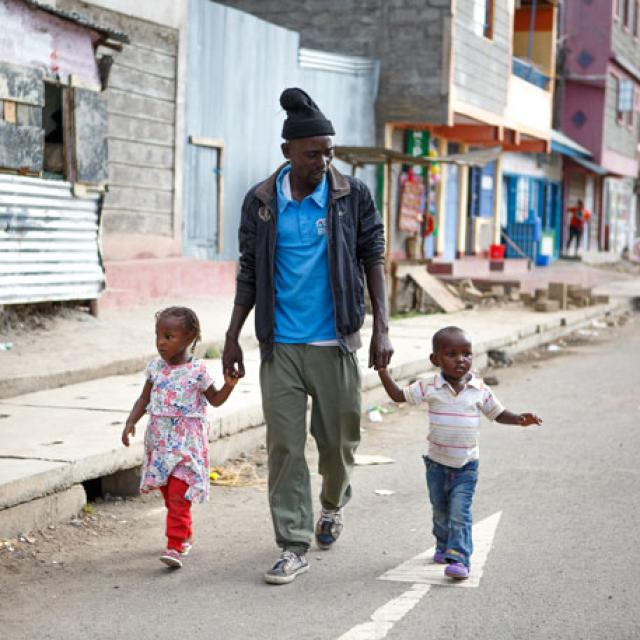Person: (221, 88, 392, 582), (381, 326, 542, 578), (123, 306, 241, 570)
